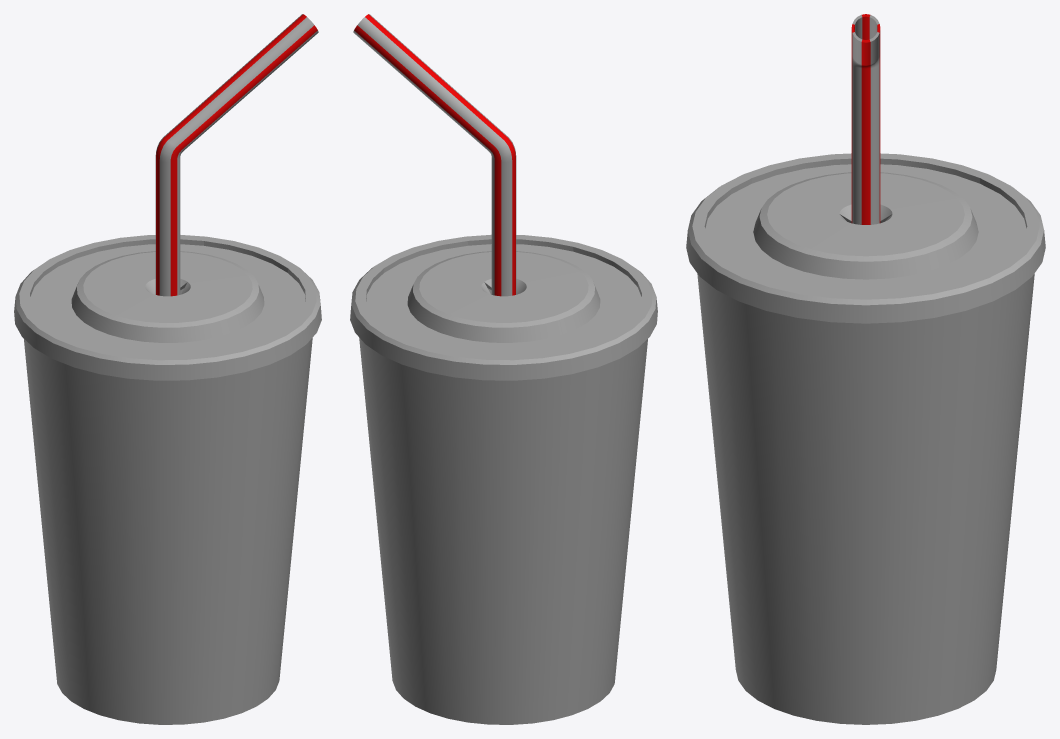
The model's file is fountain_drink.fbx.
The picture shows the model from 3 angles, left to right: view 1: azimuth 30°, elevation 25°; view 2: azimuth 150°, elevation 25°; view 3: azimuth 270°, elevation 25°; orthographic projection. The views are drawn at different scales.
Visible parts, largest first — view 1: cup, lid, straw; view 2: cup, lid, straw; view 3: cup, lid, straw.
Boxes of the visible parts, x1=… form: cup: x1=24, y1=288, x2=312, y2=724; lid: x1=14, y1=235, x2=321, y2=380; straw: x1=155, y1=14, x2=318, y2=296; cup: x1=359, y1=288, x2=647, y2=724; lid: x1=350, y1=234, x2=657, y2=380; straw: x1=353, y1=14, x2=516, y2=296; cup: x1=697, y1=273, x2=1034, y2=724; lid: x1=686, y1=153, x2=1045, y2=323; straw: x1=851, y1=14, x2=880, y2=224.
Bounding box in the file's own units: 12.31 × 26.3 × 11.68.
